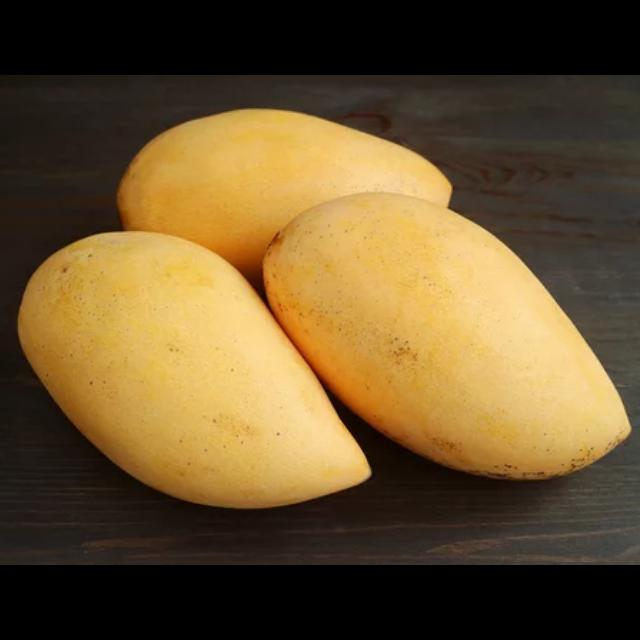mango: (266, 190, 631, 484), (9, 224, 371, 509), (119, 106, 453, 286)
